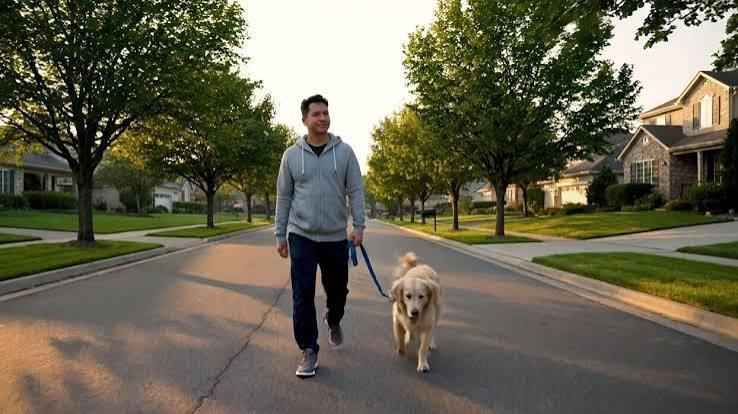adult_dog: (388, 250, 443, 374)
non-dog: (269, 96, 369, 379)
